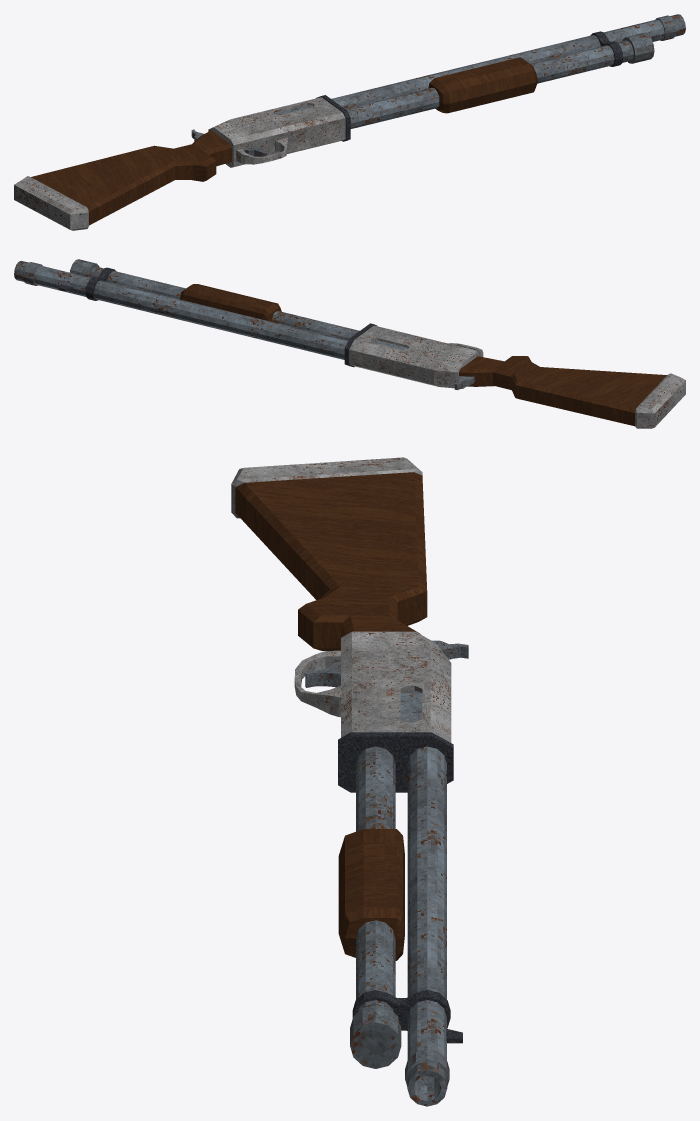
Rendered from trench gun.glb.
3 renders of one model, top to bottom at view 1: azimuth 30°, elevation 25°; view 2: azimuth 150°, elevation 25°; view 3: azimuth 270°, elevation 25°, orthographic. The views are drawn at different scales.
Visible parts, largest first — view 1: Shotgun_3, Pump; view 2: Shotgun_3, Pump; view 3: Shotgun_3, Pump.
Part boxes in pixels (bbox=[...]): Shotgun_3: bbox=[14, 14, 685, 230]; Pump: bbox=[428, 57, 538, 113]; Shotgun_3: bbox=[14, 259, 685, 428]; Pump: bbox=[180, 284, 281, 321]; Shotgun_3: bbox=[231, 457, 462, 1106]; Pump: bbox=[338, 829, 404, 960].
Bounding box in the file's own units: 65.57 × 2.79 × 10.69.
4 materials, 4 textured.
